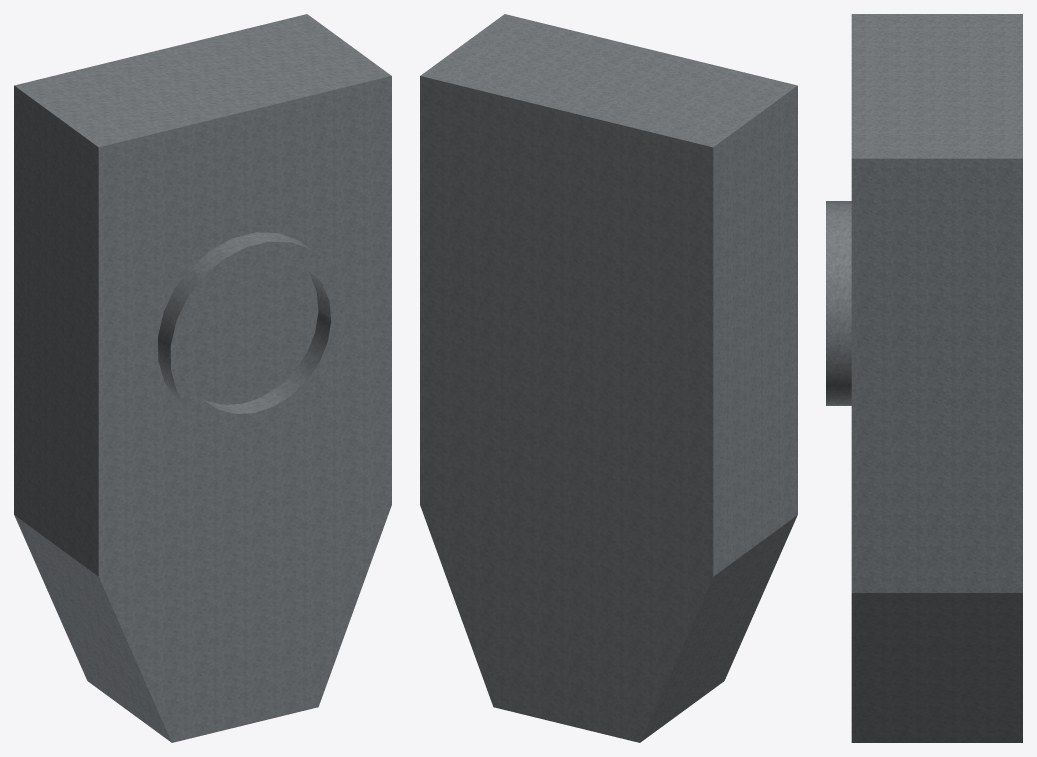
Rendered from 窑尾箱-20220904.glb.
The picture shows the model from 3 angles, left to right: view 1: azimuth 30°, elevation 25°; view 2: azimuth 150°, elevation 25°; view 3: azimuth 270°, elevation 25°; orthographic projection.
Visible parts, largest first — view 1: root; view 2: root; view 3: root.
Part boxes in pixels (bbox=[...]): root: bbox=[14, 14, 391, 742]; root: bbox=[420, 14, 797, 742]; root: bbox=[826, 14, 1022, 742].
Size of the model in its own units: 2 by 4 by 1.15.
2 materials, 1 textured.
